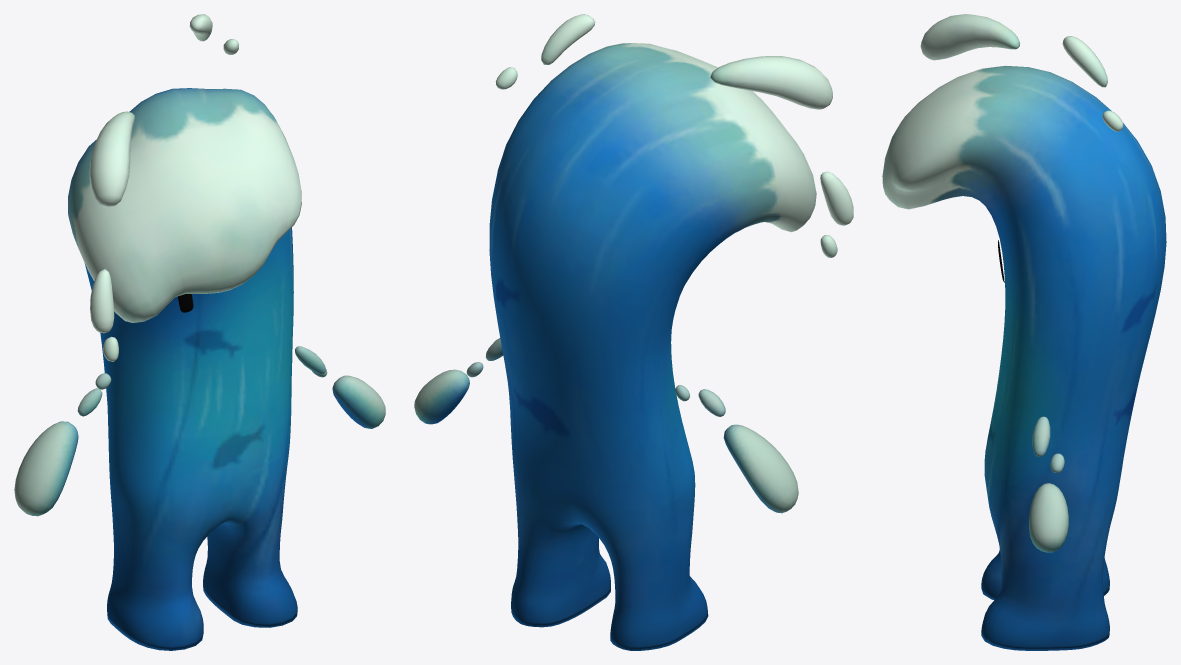
The model's file is water_elemental.glb.
The picture shows the model from 3 angles, left to right: view 1: azimuth 30°, elevation 25°; view 2: azimuth 150°, elevation 25°; view 3: azimuth 270°, elevation 25°; orthographic projection. The views are drawn at different scales.
Parts seen in each view (by area): view 1: Skin516_WaterElemental_Hp_0; view 2: Skin516_WaterElemental_Hp_0; view 3: Skin516_WaterElemental_Hp_0.
Part boxes in pixels (x1,y1,x2,y2): Skin516_WaterElemental_Hp_0: (14, 14, 385, 650); Skin516_WaterElemental_Hp_0: (414, 14, 853, 650); Skin516_WaterElemental_Hp_0: (882, 14, 1166, 650).
Bounding box in the file's own units: 1.36 × 2.08 × 0.9224.
Materials: 1 (1 with a texture image).
